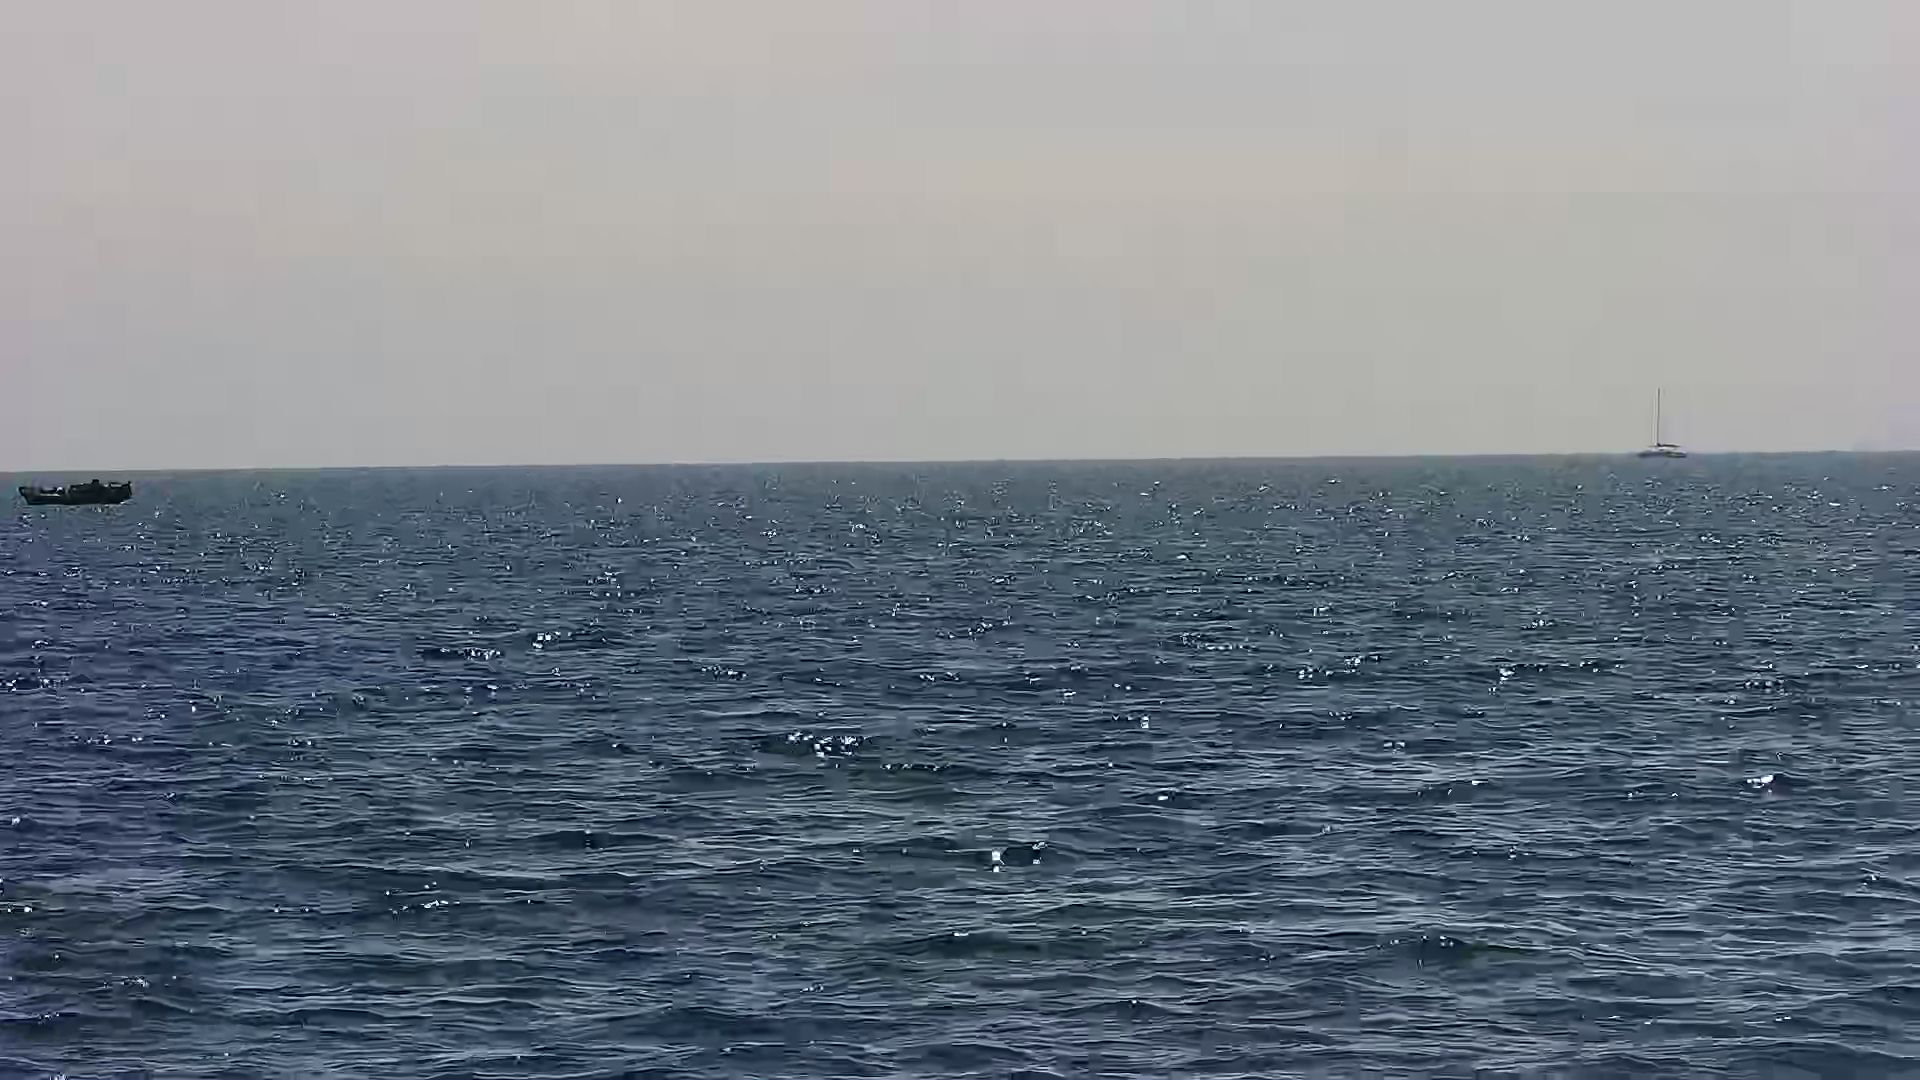boat: (16, 475, 138, 502), (1639, 390, 1681, 462)
